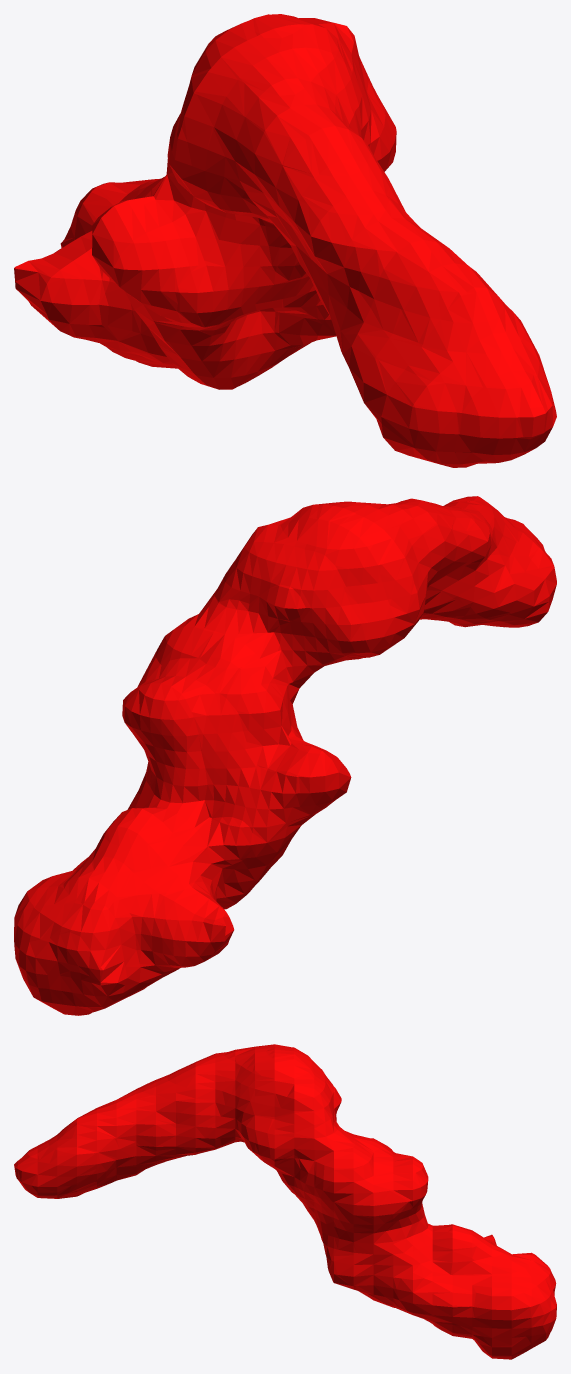
File: acrA_coarse.dae
3 renders of one model, top to bottom at view 1: azimuth 30°, elevation 25°; view 2: azimuth 150°, elevation 25°; view 3: azimuth 270°, elevation 25°, orthographic. The views are drawn at different scales.
Visible parts, largest first — view 1: acrA; view 2: acrA; view 3: acrA.
Boxes of the visible parts, x1,y1,x2,y2 form: acrA: [14, 14, 556, 467]; acrA: [14, 496, 556, 1015]; acrA: [14, 1044, 556, 1359].
Bounding box in the file's own units: 44.18 × 74.69 × 133.
